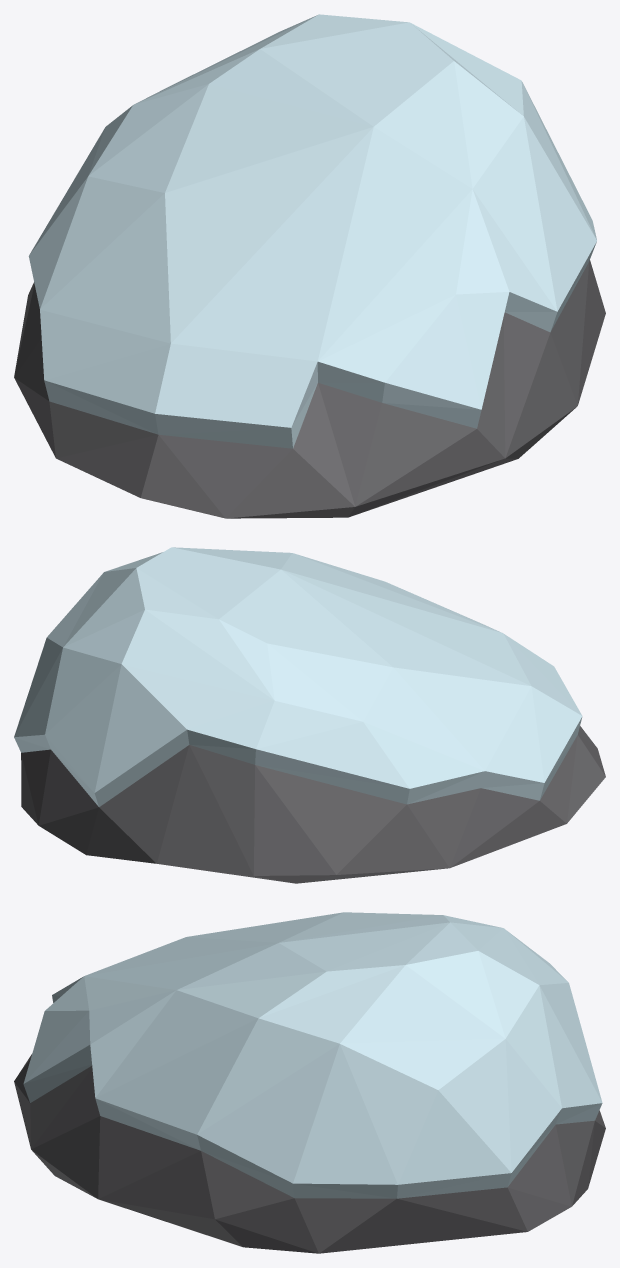
File: SM_Env_Rock_02_Snow.fbx
The picture shows the model from 3 angles, top to bottom: view 1: azimuth 30°, elevation 25°; view 2: azimuth 150°, elevation 25°; view 3: azimuth 270°, elevation 25°; orthographic projection. The views are drawn at different scales.
Visible parts, largest first — view 1: SM_Env_Rock_02_Snow; view 2: SM_Env_Rock_02_Snow; view 3: SM_Env_Rock_02_Snow.
Part boxes in pixels (x1,y1,x2,y2): SM_Env_Rock_02_Snow: (14,14,605,518); SM_Env_Rock_02_Snow: (14,547,605,883); SM_Env_Rock_02_Snow: (14,912,605,1253).
Size of the model in its own units: 150 by 76.41 by 151.
